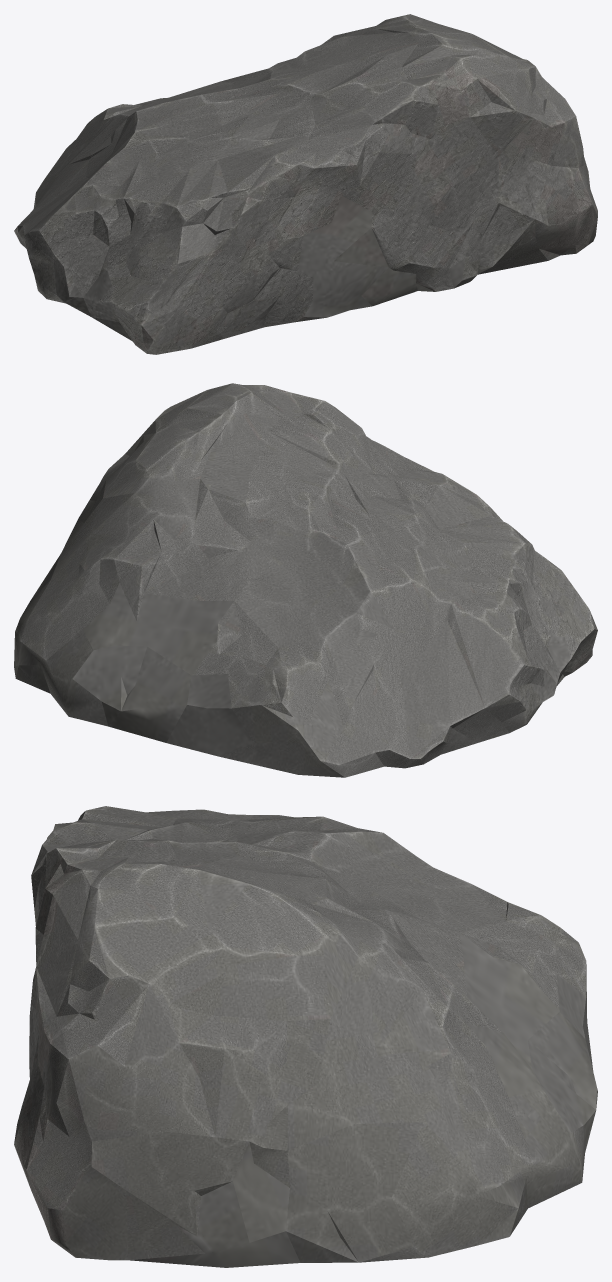
The model's file is co_angular_silicate.glb.
The picture shows the model from 3 angles, top to bottom: view 1: azimuth 30°, elevation 25°; view 2: azimuth 150°, elevation 25°; view 3: azimuth 270°, elevation 25°; orthographic projection. The views are drawn at different scales.
Visible parts, largest first — view 1: output_unwrapped; view 2: output_unwrapped; view 3: output_unwrapped.
Boxes of the visible parts, x1,y1,x2,y2 form: output_unwrapped: [14, 14, 597, 354]; output_unwrapped: [14, 383, 597, 777]; output_unwrapped: [14, 806, 597, 1267].
Size of the model in its own units: 1.9 by 0.8013 by 1.39.
Materials: 1 (1 with a texture image).
